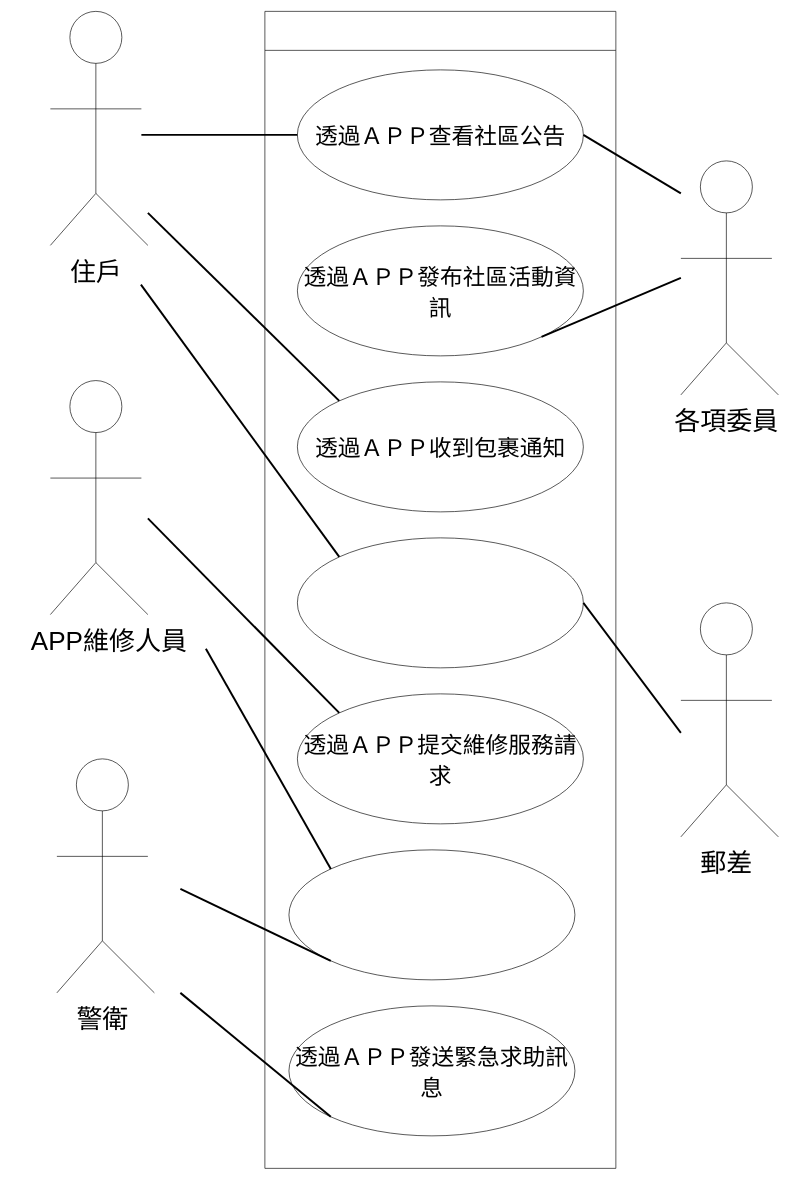
This 796x1180 diagram has some shape labels left out. Here are the shapes that lost their labels. From the top down, the box of each, then its label:
(264, 11, 616, 1168): 社區ＡＰＰ
(297, 537, 583, 668): 透過ＡＰＰ提交社區問題或意見反饋
(288, 849, 575, 980): 透過ＡＰＰ紀錄和報告社區內的安全事件
